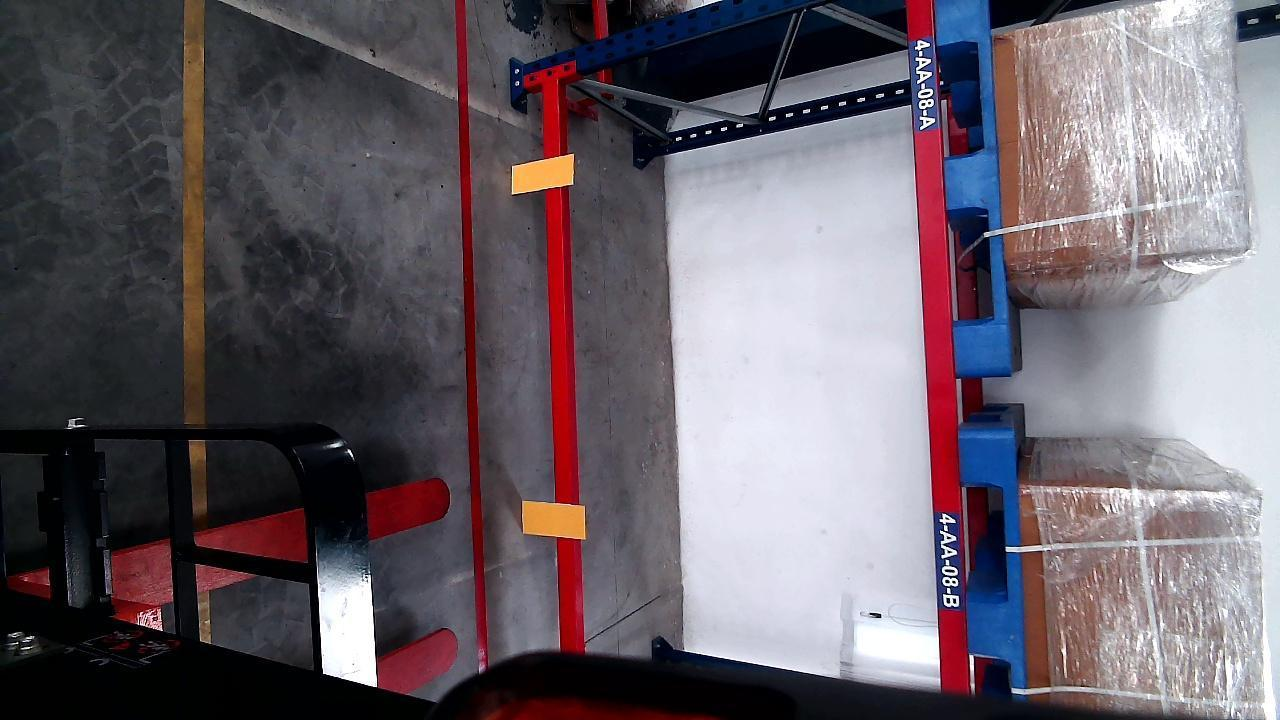h_rack: (542, 72, 581, 662)
orange_strip: (510, 154, 573, 194), (521, 501, 585, 538)
red_line: (454, 0, 488, 695)
small_pallet: (937, 0, 1008, 375), (963, 434, 1025, 697)
yellow_line: (181, 2, 207, 421)
